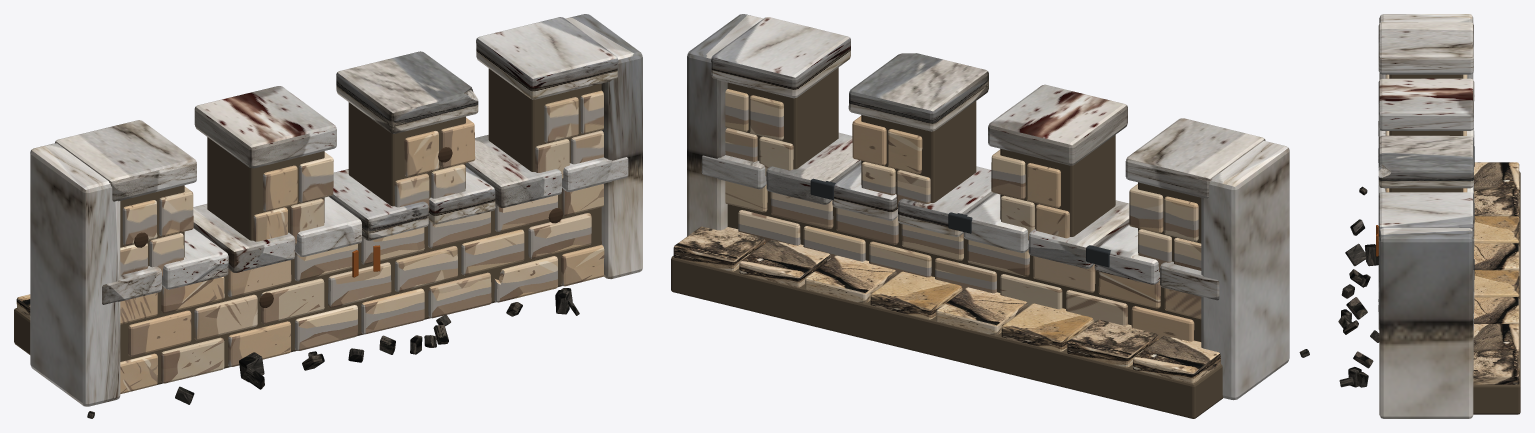
File: parapet_crenellated_4m_LOD0.glb
3 renders of one model, left to right at view 1: azimuth 30°, elevation 25°; view 2: azimuth 150°, elevation 25°; view 3: azimuth 270°, elevation 25°, orthographic. The views are drawn at different scales.
Parts seen in each view (by area): view 1: CrenelTerminalPier, CrenelTerminalPier.001, MerlonCap.001, MerlonCap.003, MerlonCap.002, MerlonCap, CrenelBaseCore, MerlonCore.002, MerlonCore.003, MerlonCore.001, CrenelSillStone.006, CrenelSillStone.004 (+47 smaller); view 2: FiringStepCore, CrenelTerminalPier, MerlonCap.003, MerlonCap.001, MerlonCap.002, CrenelTerminalPier.001, MerlonCap, MerlonCore.002, MerlonCore.001, MerlonCore.003, CrenelBaseCore, CrenelSillStone.006 (+47 smaller); view 3: CrenelTerminalPier.001, MerlonCap.002, MerlonCap.001, MerlonCap, MerlonCap.003, FiringStepCore, FiringStepPaver.007, FiringStepPaver, FiringStepPaver.002, FiringStepPaver.001, FiringStepPaver.003, FiringStepPaver.004 (+10 smaller).
Boxes of the visible parts, <box> form: CrenelTerminalPier: <box>30,143,120,406</box>; CrenelTerminalPier.001: <box>565,14,642,279</box>; MerlonCap.001: <box>194,86,336,168</box>; MerlonCap.003: <box>476,17,618,99</box>; MerlonCap.002: <box>336,51,478,133</box>; MerlonCap: <box>55,120,196,201</box>; CrenelBaseCore: <box>120,193,601,384</box>; MerlonCore.002: <box>348,102,465,206</box>; MerlonCore.003: <box>488,68,601,171</box>; MerlonCore.001: <box>207,137,324,240</box>; CrenelSillStone.006: <box>466,135,561,207</box>; CrenelSillStone.004: <box>329,169,428,240</box>; FiringStepCore: <box>671,256,1223,418</box>; CrenelTerminalPier: <box>1201,141,1289,400</box>; MerlonCap.003: <box>711,17,850,98</box>; MerlonCap.001: <box>988,84,1127,165</box>; MerlonCap.002: <box>848,53,988,131</box>; CrenelTerminalPier.001: <box>687,14,763,236</box>; MerlonCap: <box>1125,118,1265,198</box>; MerlonCore.002: <box>861,101,976,202</box>; MerlonCore.001: <box>1000,135,1115,236</box>; MerlonCore.003: <box>727,67,838,169</box>; CrenelBaseCore: <box>727,191,1201,341</box>; CrenelSillStone.006: <box>766,132,861,204</box>; CrenelTerminalPier.001: <box>1379,227,1473,418</box>; MerlonCap.002: <box>1378,135,1473,188</box>; MerlonCap.001: <box>1378,78,1474,130</box>; MerlonCap: <box>1378,22,1473,74</box>; MerlonCap.003: <box>1378,192,1474,242</box>; FiringStepCore: <box>1473,171,1520,414</box>; FiringStepPaver.007: <box>1473,350,1519,384</box>; FiringStepPaver: <box>1474,162,1519,195</box>; FiringStepPaver.002: <box>1474,216,1519,245</box>; FiringStepPaver.001: <box>1474,189,1519,217</box>; FiringStepPaver.003: <box>1474,243,1519,275</box>; FiringStepPaver.004: <box>1474,270,1519,298</box>.
Bounding box in the file's own units: 4.26 × 1.65 × 1.43.
8 materials, 4 textured.
